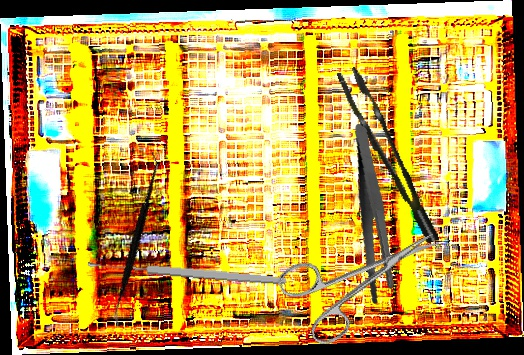Dressing Forceps: (330, 123, 416, 307)
Iris Scissors: (274, 202, 457, 353)
Spatula Surgical: (67, 150, 202, 328)
Surgical Spoon: (87, 258, 287, 287)
Tissue Forceps: (336, 59, 440, 254)
